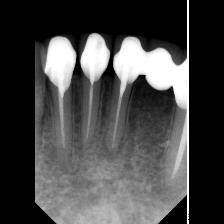apical_lesion: (94, 35, 148, 178)
